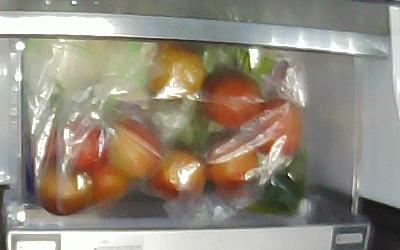prune_vinyl: (202, 70, 264, 129), (241, 97, 302, 156), (138, 48, 204, 102), (101, 119, 160, 178), (143, 148, 206, 202), (47, 118, 107, 170), (203, 135, 259, 189), (37, 164, 93, 217)
